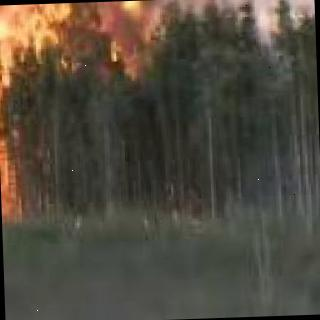fire: (44, 0, 148, 65), (0, 5, 18, 230)
